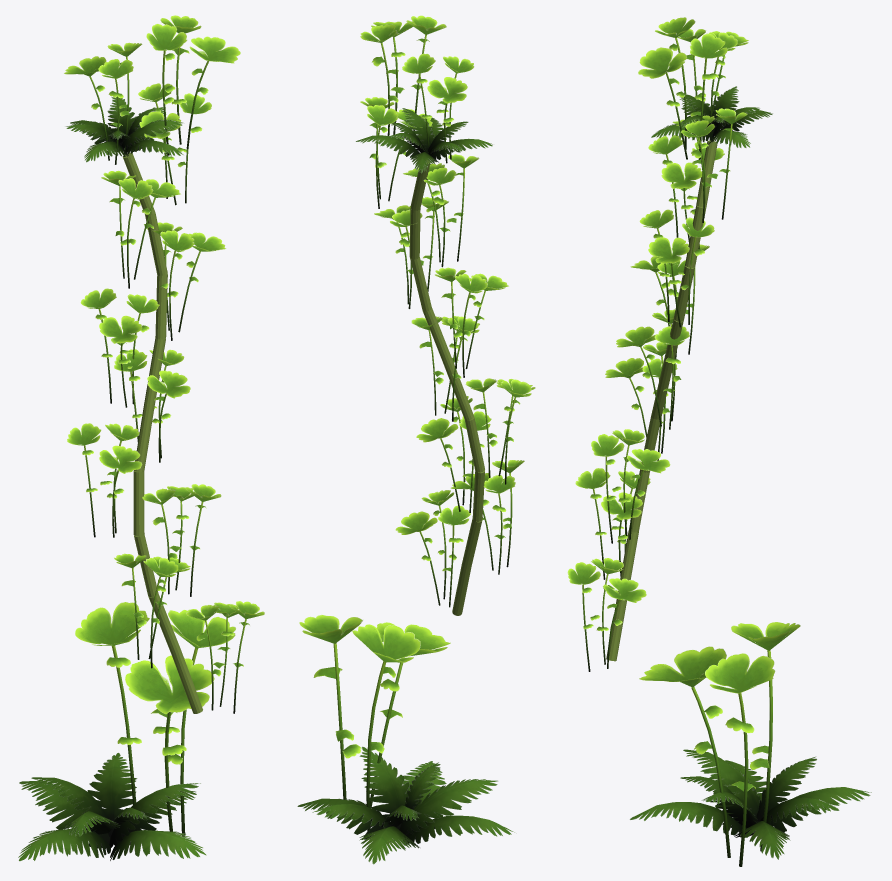
Rendered from Relay_Mast_Greenery.glb.
3 renders of one model, left to right at view 1: azimuth 30°, elevation 25°; view 2: azimuth 150°, elevation 25°; view 3: azimuth 270°, elevation 25°, orthographic. The views are drawn at different scales.
Parts seen in each view (by area): view 1: Patch_01, Patch_00; view 2: Patch_01, Patch_00; view 3: Patch_01, Patch_00.
Part boxes in pixels (left/top/right/bottom): Patch_01: left=64, top=15, right=264, bottom=713; Patch_00: left=18, top=602, right=235, bottom=861; Patch_01: left=355, top=15, right=535, bottom=615; Patch_00: left=297, top=614, right=516, bottom=864; Patch_01: left=567, top=17, right=772, bottom=671; Patch_00: left=629, top=622, right=871, bottom=866.
Bounding box in the file's own units: 0.691 × 2.43 × 0.8344.
Materials: 3 (2 with a texture image).
